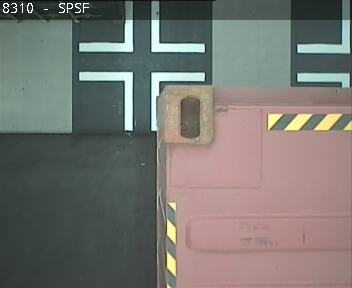groundmarker_1: (78, 71, 206, 131), (78, 1, 206, 53)
